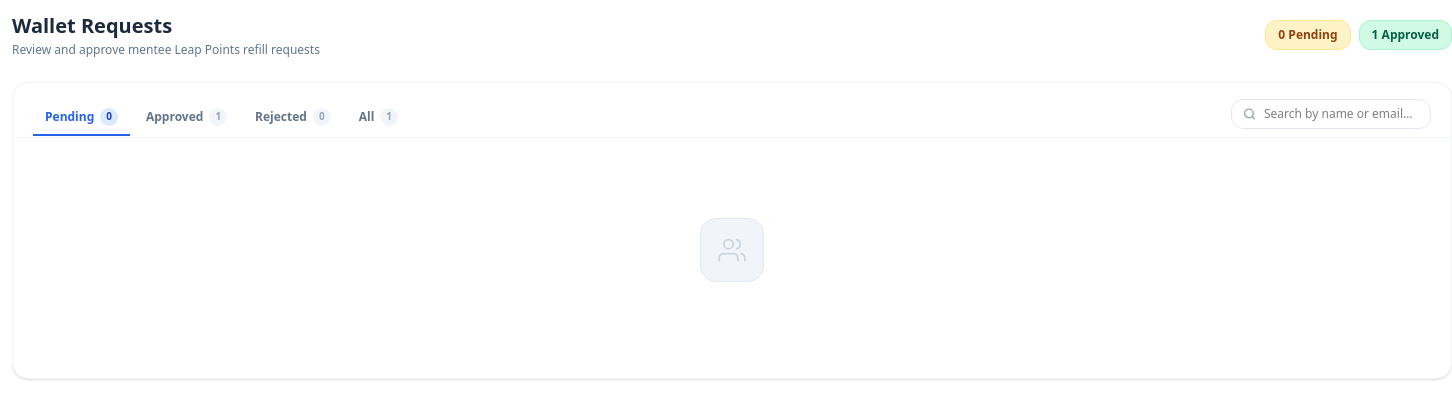
Scenario: AdminWalletRequests › does not show approve/reject buttons for non-pending requests
Check: the text "1 Approved" is shown, box [1359,20,1451,50]
Click the button "All 1" at [378, 118], box [347,100,410,136]
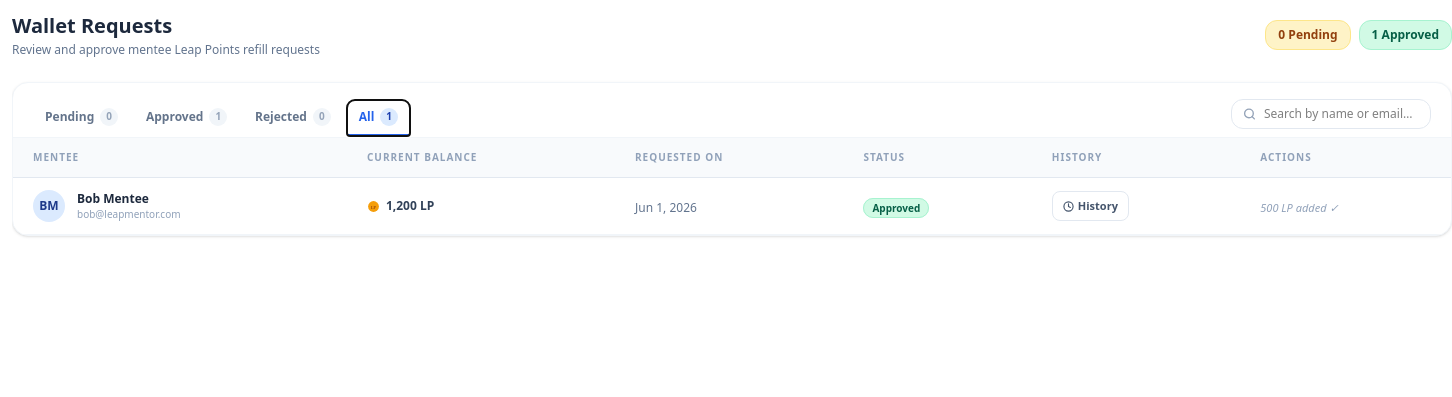
Check: the text "Bob Mentee" is shown, box [77,190,149,206]
Check: the text "500 LP added ✓" is shown, box [1260,200,1339,215]
